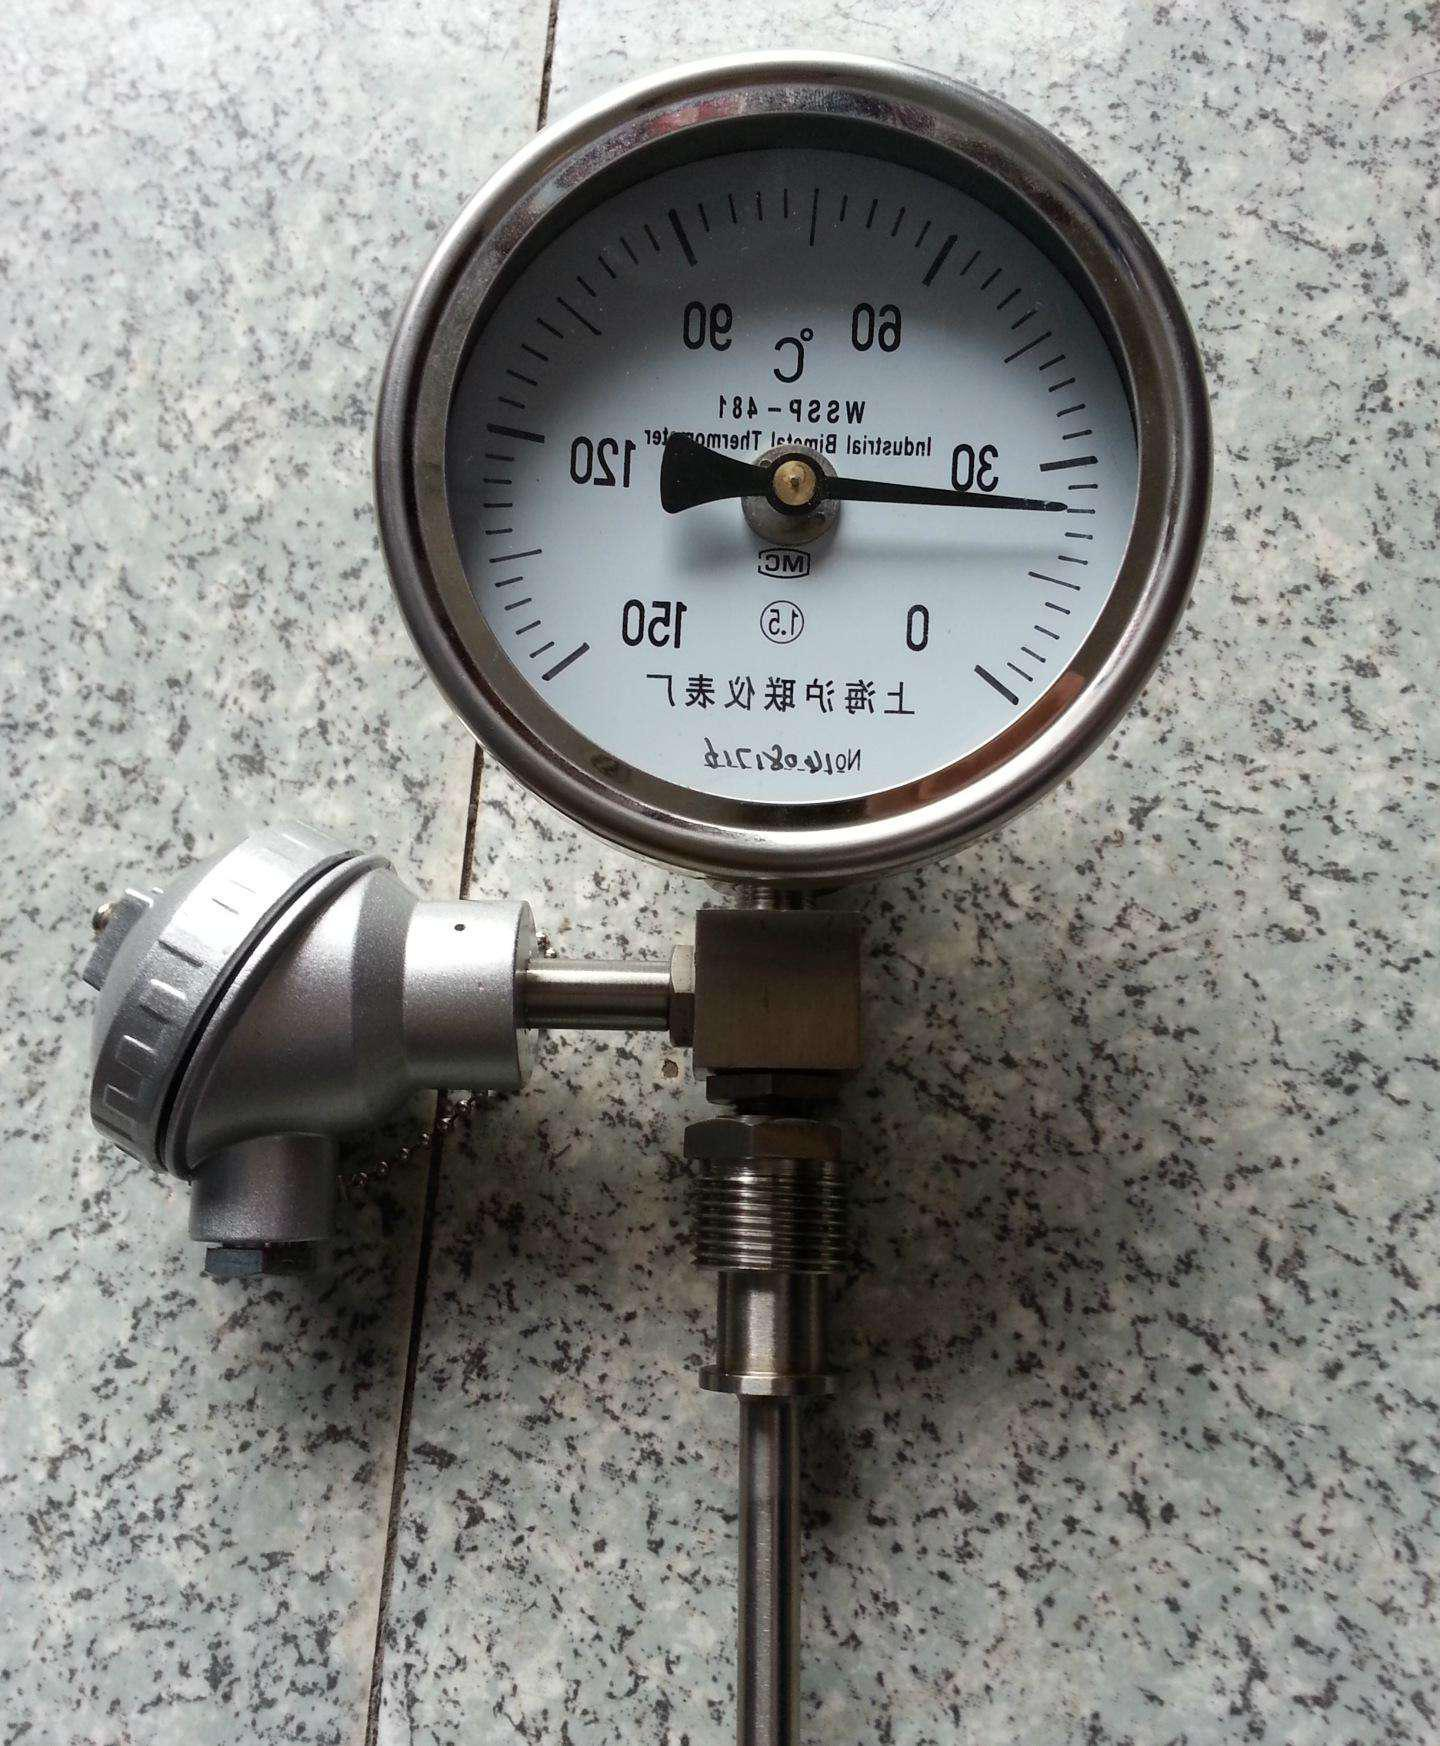pointer: (399, 113, 1180, 840)
